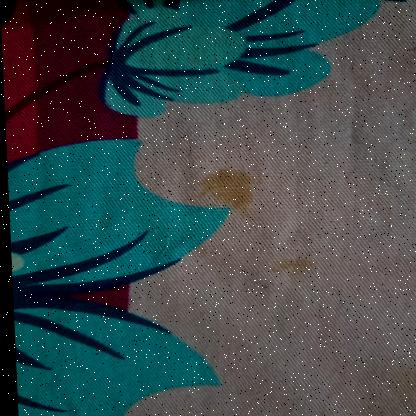spot: (187, 160, 285, 218), (267, 253, 312, 285)
